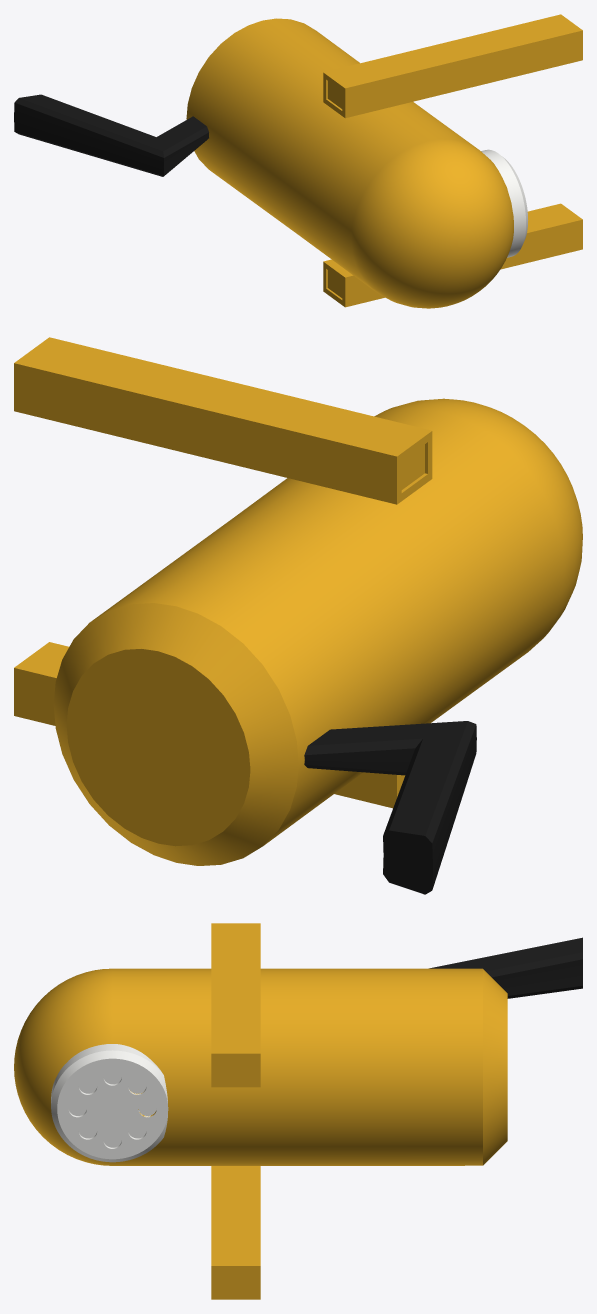
File: Crewmate #8.fbx
3 renders of one model, top to bottom at view 1: azimuth 30°, elevation 25°; view 2: azimuth 150°, elevation 25°; view 3: azimuth 270°, elevation 25°, orthographic. The views are drawn at different scales.
Parts seen in each view (by area): view 1: Body1, Body3, Body5, Body4, Body2; view 2: Body1, Body3, Body5, Body4; view 3: Body1, Body2, Body3, Body4, Body5.
Part boxes in pixels (box(x1,y1,x2,y2)): Body1: box(186, 18, 513, 308); Body3: box(323, 14, 582, 118); Body5: box(14, 94, 208, 176); Body4: box(323, 203, 582, 307); Body2: box(481, 149, 528, 257); Body1: box(53, 398, 582, 865); Body3: box(14, 337, 432, 504); Body5: box(304, 721, 476, 894); Body4: box(14, 642, 405, 808); Body1: box(14, 968, 507, 1165); Body2: box(51, 1044, 168, 1162); Body3: box(211, 923, 260, 1087); Body4: box(211, 1166, 260, 1299); Body5: box(429, 937, 582, 998).
Bounding box in the file's own units: 2121 × 1100 × 2306.
